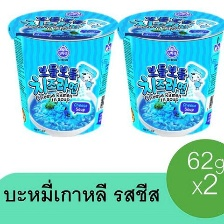paper_cup: (2, 4, 123, 142), (113, 4, 224, 142)
